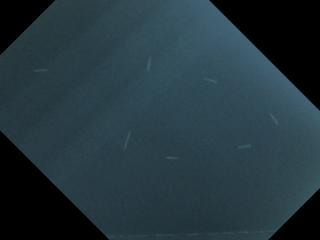crack: (104, 226, 276, 240)
scratch: (29, 60, 53, 80), (140, 51, 158, 74), (159, 150, 184, 166), (265, 108, 282, 129), (121, 127, 135, 151), (201, 72, 219, 85), (233, 142, 253, 151)
